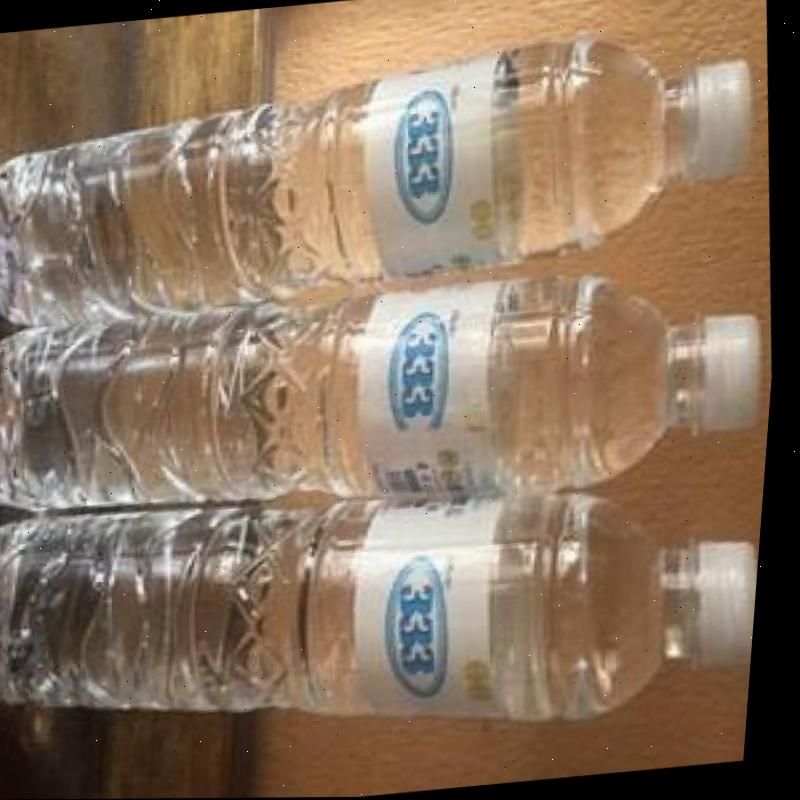botella: (0, 452, 773, 783), (0, 19, 776, 334), (0, 258, 785, 544)
